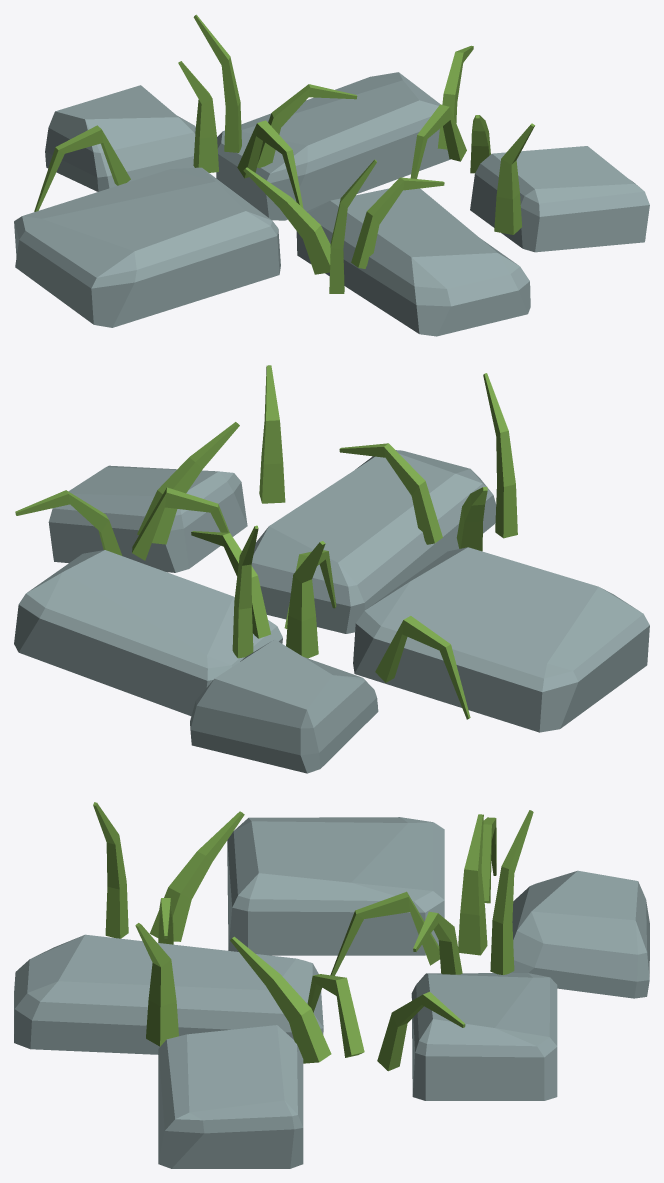
Rendered from herbe1.fbx.
3 renders of one model, top to bottom at view 1: azimuth 30°, elevation 25°; view 2: azimuth 150°, elevation 25°; view 3: azimuth 270°, elevation 25°, orthographic. The views are drawn at different scales.
Parts seen in each view (by area): view 1: pCube14, pCube15, pCube12, pCube16, pCube13, pCube25, pCube27, pCube24, pCube21, pCube20, pCube26, pCube22 (+5 smaller); view 2: pCube14, pCube12, pCube15, pCube13, pCube16, pCube21, pCube28, pCube27, pCube24, pCube26, pCube19, pCube20 (+5 smaller); view 3: pCube14, pCube15, pCube16, pCube12, pCube13, pCube19, pCube21, pCube27, pCube20, pCube25, pCube28, pCube18 (+5 smaller).
Boxes of the visible parts, <box> form: pCube14: <box>14,167,280,327</box>; pCube15: <box>296,188,530,336</box>; pCube12: <box>216,72,450,220</box>; pCube16: <box>470,146,649,252</box>; pCube13: <box>45,85,195,191</box>; pCube25: <box>243,167,330,274</box>; pCube27: <box>494,123,534,234</box>; pCube24: <box>351,177,444,268</box>; pCube21: <box>178,61,218,172</box>; pCube20: <box>193,14,241,152</box>; pCube26: <box>34,125,130,211</box>; pCube22: <box>237,120,303,207</box>; pCube14: <box>353,547,649,732</box>; pCube12: <box>14,550,282,715</box>; pCube15: <box>251,450,496,633</box>; pCube13: <box>190,639,378,773</box>; pCube16: <box>48,465,247,572</box>; pCube21: <box>286,541,325,658</box>; pCube28: <box>483,373,517,538</box>; pCube27: <box>259,365,285,503</box>; pCube24: <box>339,443,442,544</box>; pCube26: <box>375,616,470,719</box>; pCube19: <box>137,422,239,544</box>; pCube20: <box>232,525,258,658</box>; pCube14: <box>227,817,444,955</box>; pCube15: <box>14,934,323,1054</box>; pCube16: <box>158,1025,303,1168</box>; pCube12: <box>411,973,557,1100</box>; pCube13: <box>511,870,649,998</box>; pCube19: <box>230,936,331,1063</box>; pCube21: <box>458,814,487,955</box>; pCube27: <box>135,923,178,1046</box>; pCube20: <box>490,810,533,974</box>; pCube25: <box>149,811,244,941</box>; pCube28: <box>93,802,128,938</box>; pCube18: <box>377,991,465,1071</box>.
Bounding box in the file's own units: 106 × 33.92 × 97.77.
